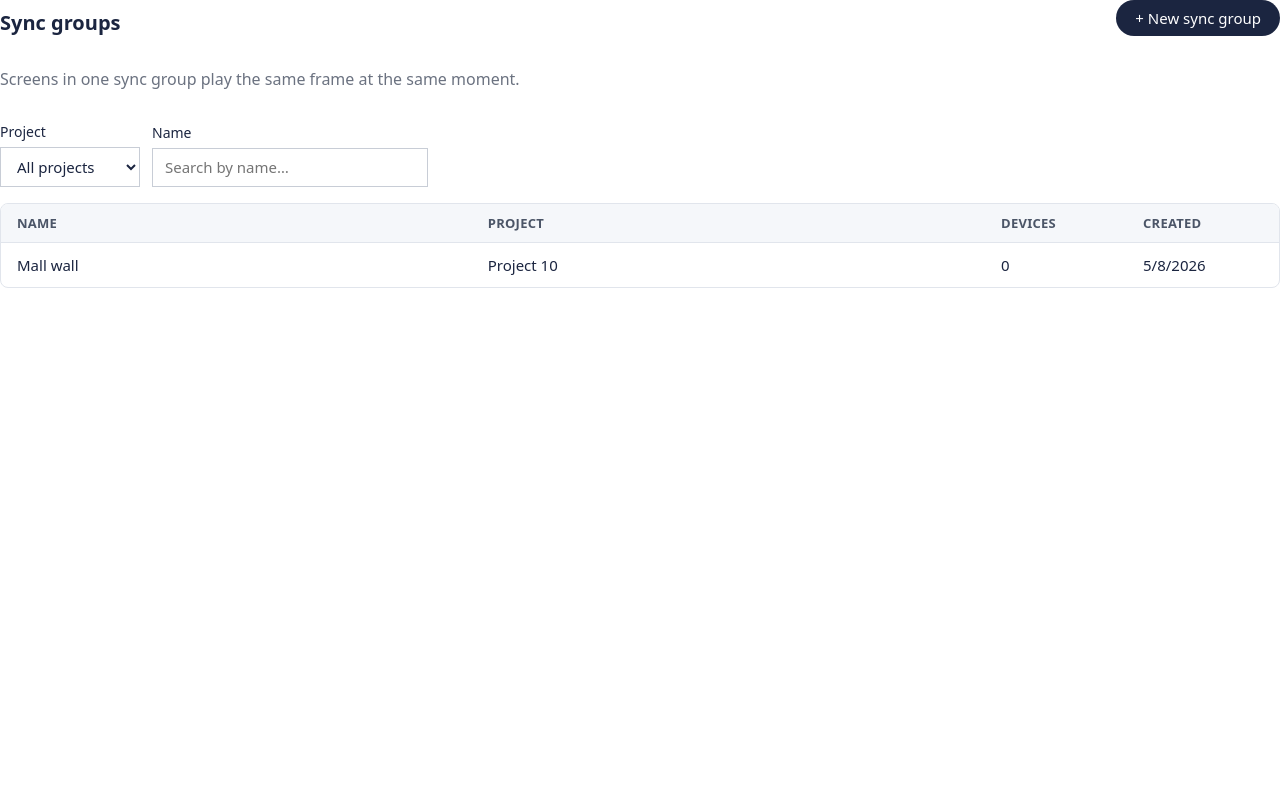
Test: SyncGroupsPage › renders a delete 409 message verbatim in the drawer
Click the text "Mall wall" at (48, 265), box x1=1 y1=242 x2=472 y2=287
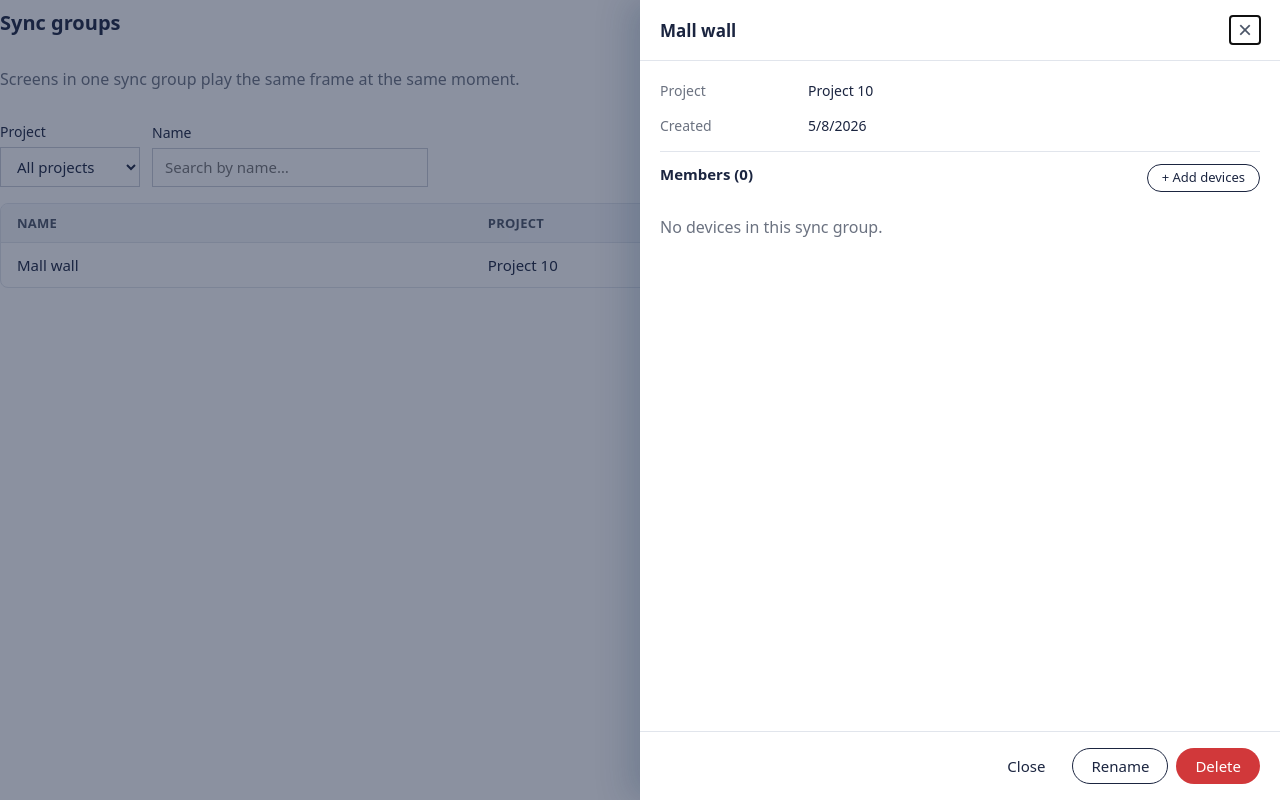
Click the button "Delete" at (1218, 766), box x1=1176 y1=748 x2=1260 y2=784
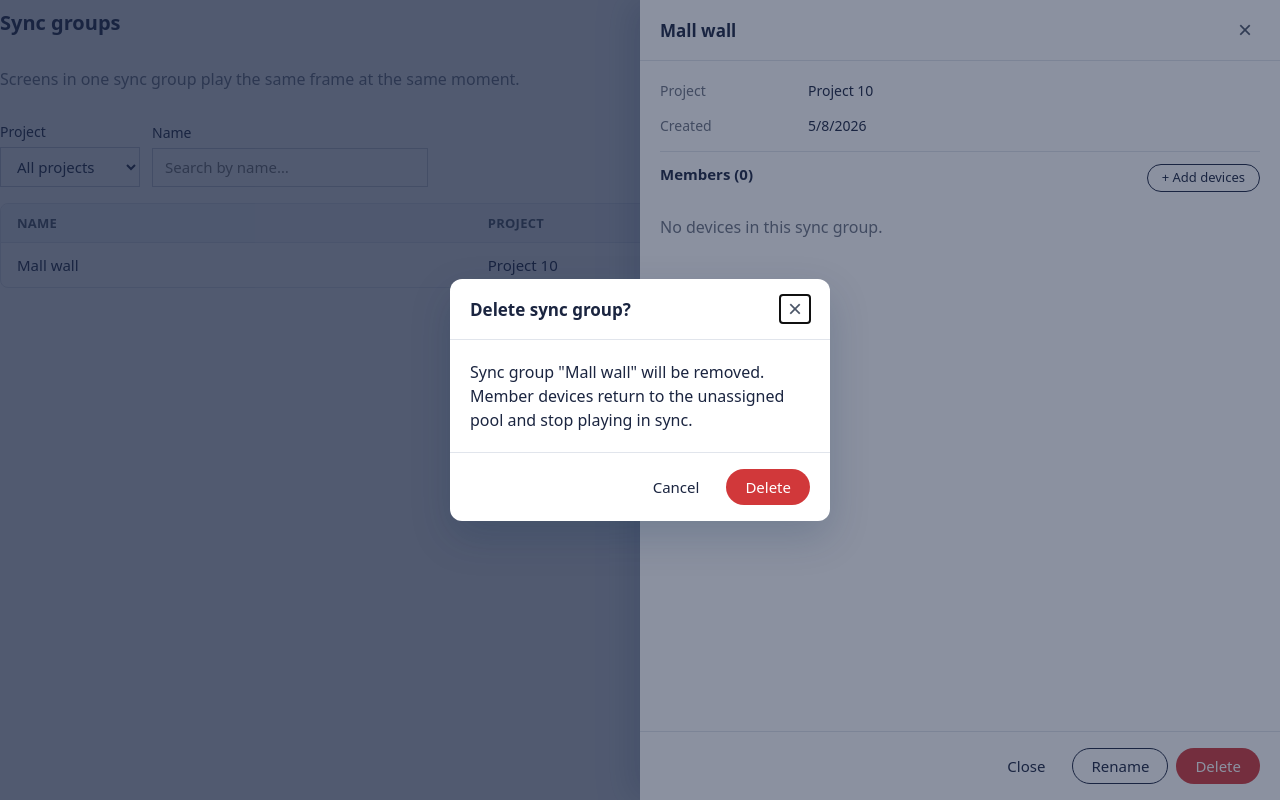
Click the button "Delete" at (768, 487), box x1=726 y1=469 x2=810 y2=505
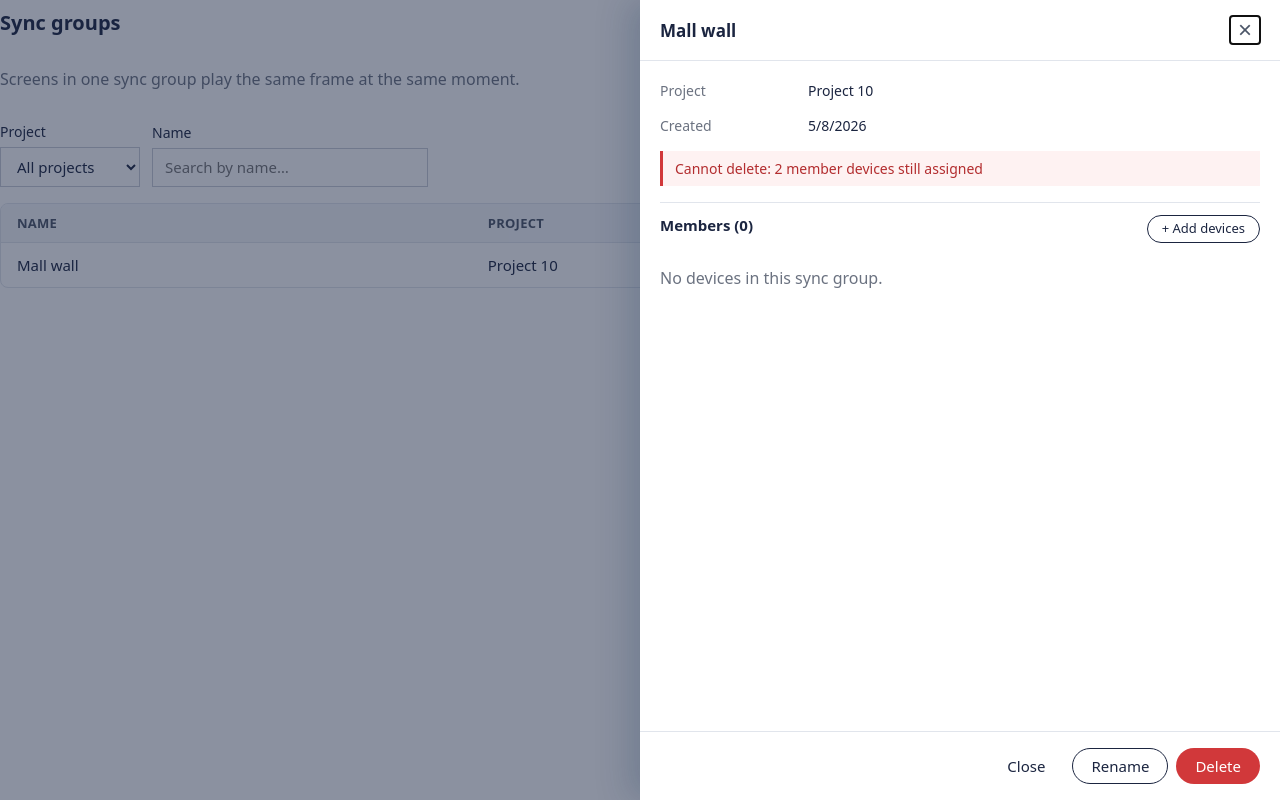
expect the text "Cannot delete: 2 member devices still assigned" is shown: met, box x1=660 y1=151 x2=1260 y2=186
